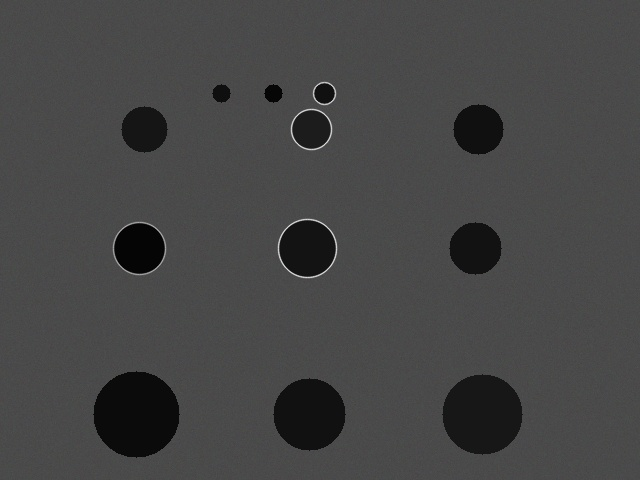hole: (93, 371, 179, 457), (442, 374, 522, 454), (273, 378, 345, 450), (278, 219, 336, 277), (113, 222, 165, 274), (449, 222, 501, 274), (453, 104, 503, 154), (121, 106, 167, 152), (291, 109, 331, 149), (313, 82, 335, 104), (212, 84, 230, 102), (264, 84, 282, 102)
